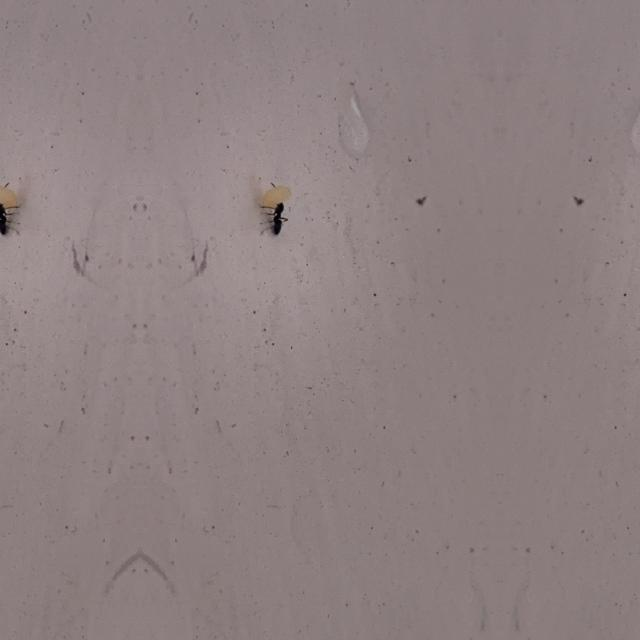Tapinoma: (266, 190, 288, 238), (0, 190, 14, 238)
